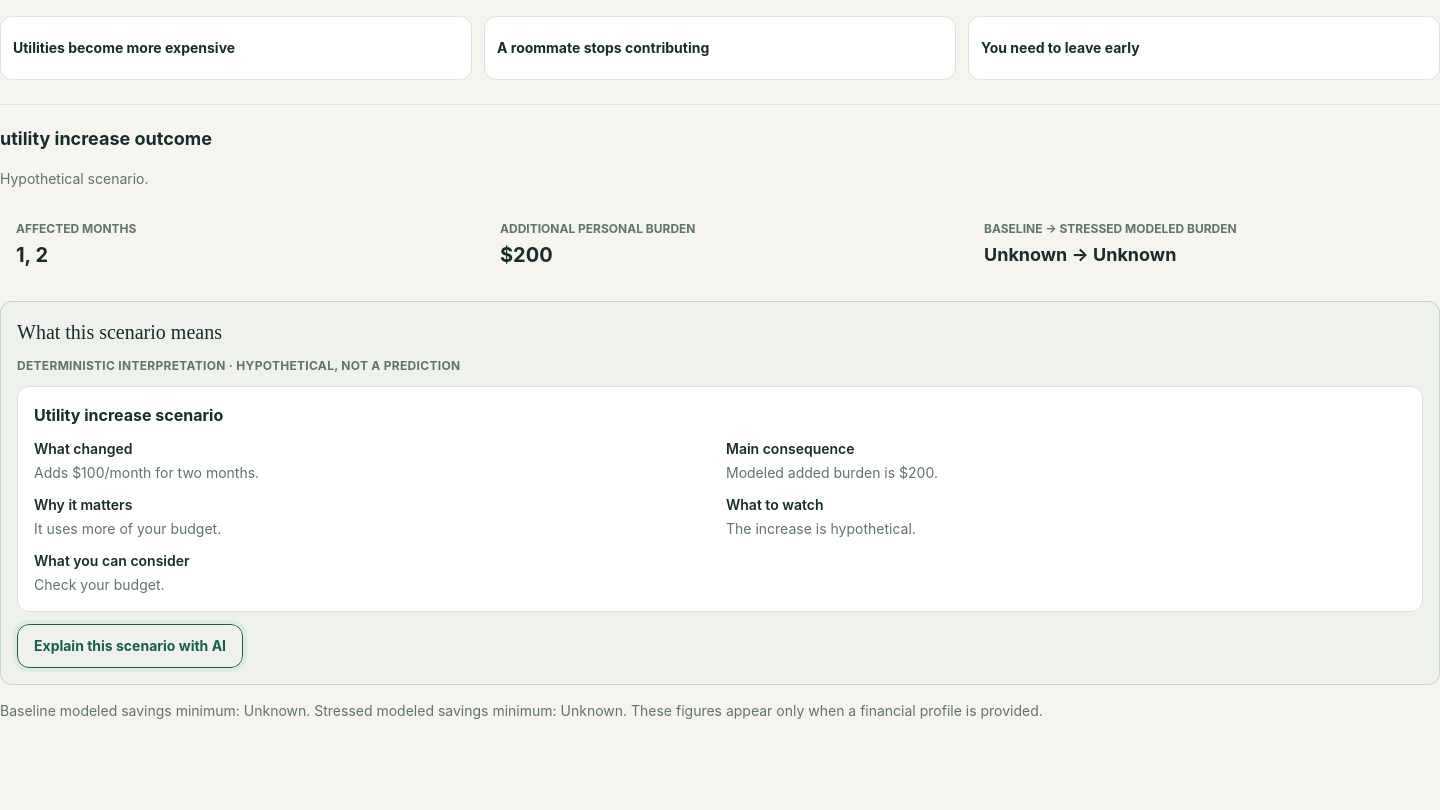
Test: financial results, stress, and comparison › shows deterministic meaning without AI and requests a grounded explanation only on explicit action
Expected: the element "What this scenario means" shows "Adds $100/month for two months.", top-left (34, 464), bottom-right (259, 481)
Click the button "Explain this scenario with AI". click: (130, 646)
box: top-left (17, 624), bottom-right (243, 668)
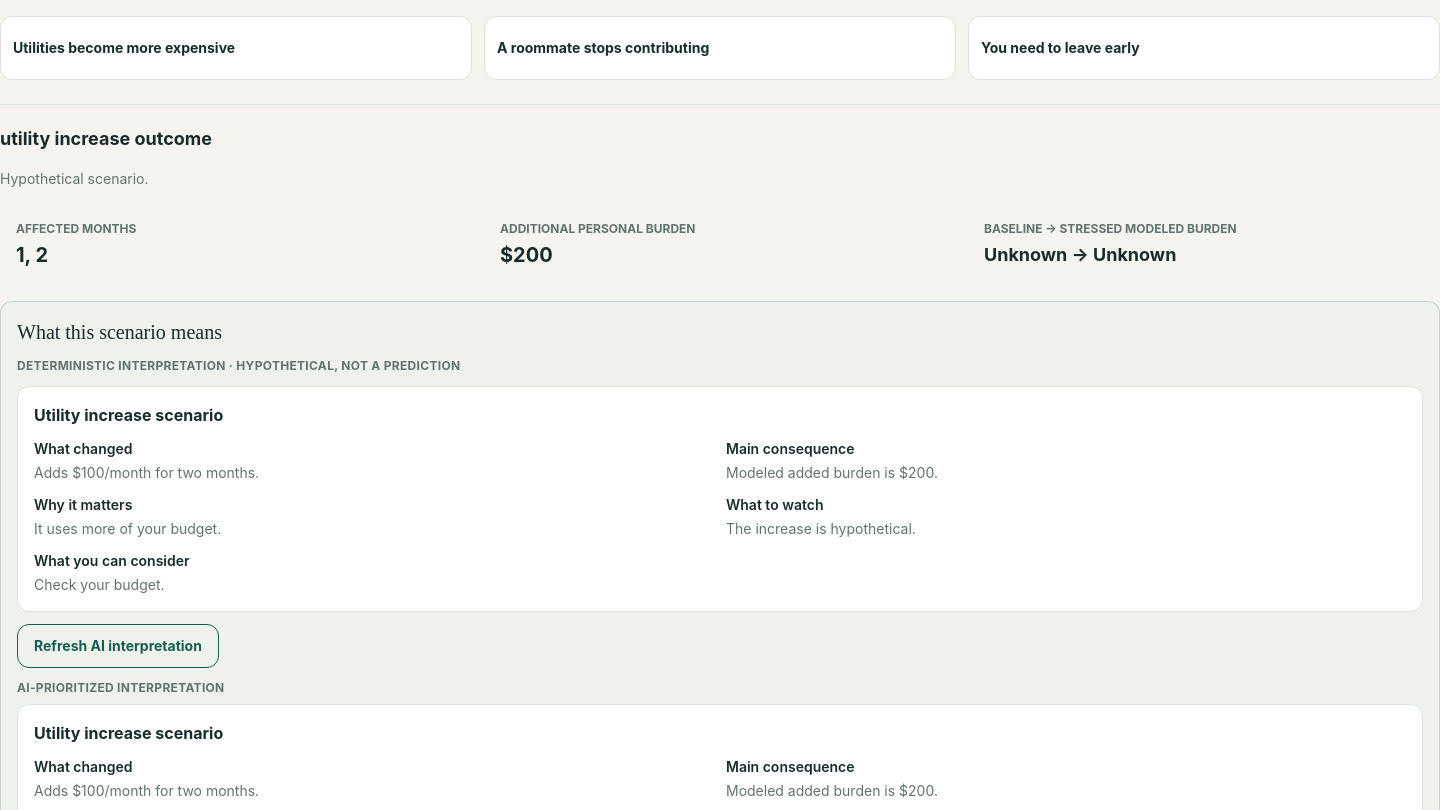
Expected: the text "AI-prioritized interpretation" is shown, top-left (17, 680), bottom-right (225, 695)
